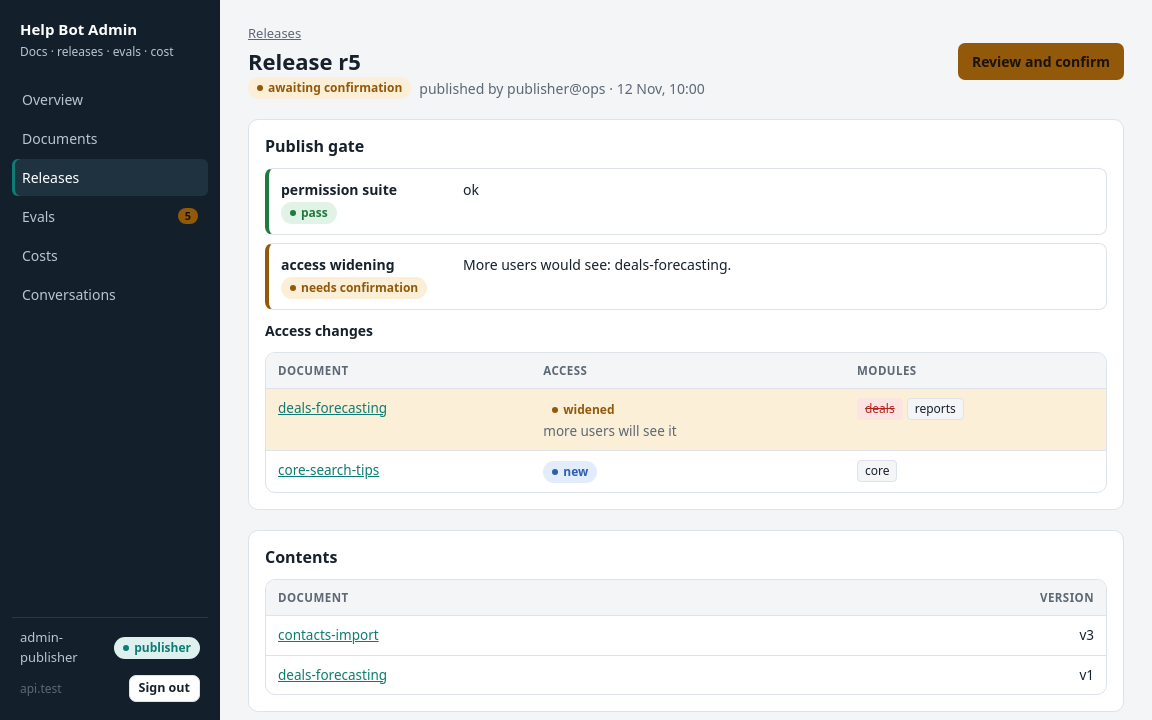
Test case: widening confirmation › a publisher reviews the widened docs and confirms; the release goes live
Click the button "Review and confirm". click: (1041, 62)
box: [958, 43, 1124, 80]
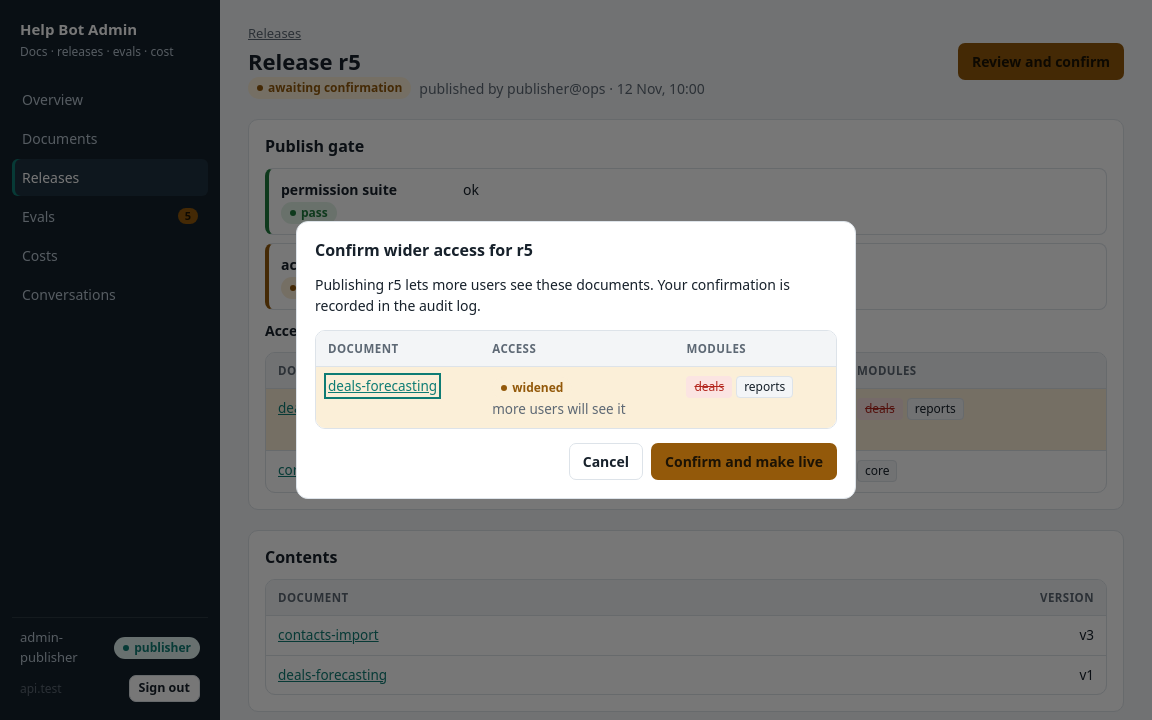
Now the link "deals-forecasting" is shown, box [328, 377, 437, 395]
Click the button "Confirm and make live". click: (744, 462)
box: [651, 443, 837, 480]
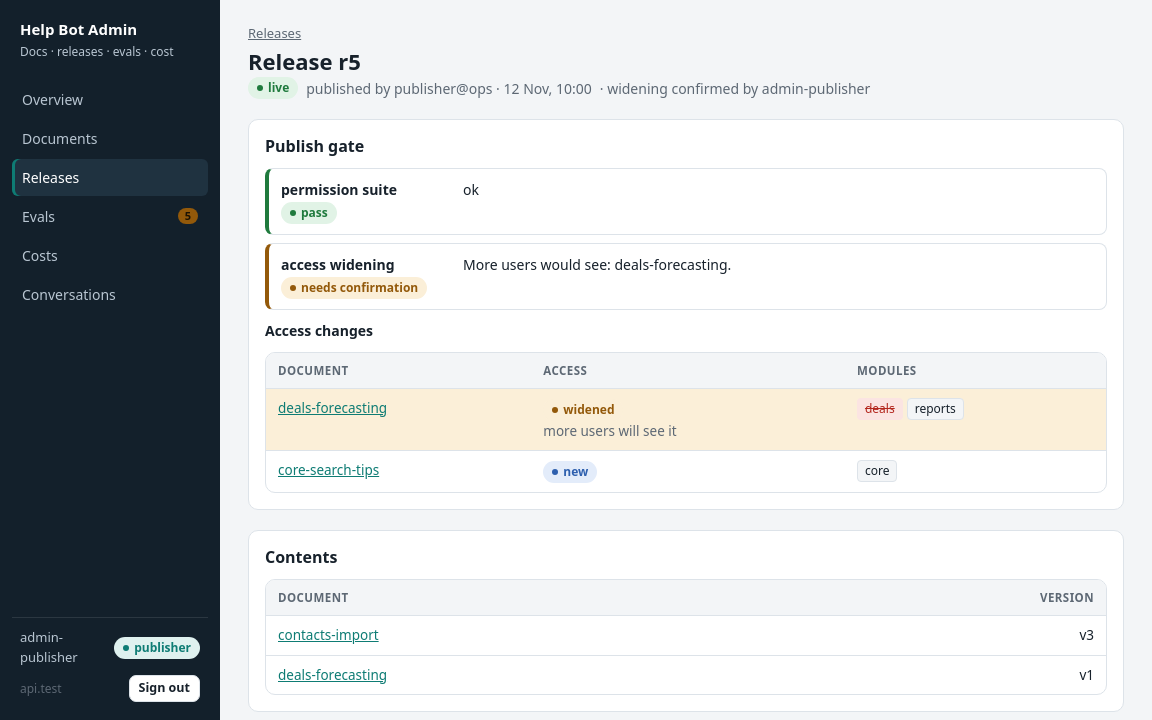
Now the text "· widening confirmed by admin-publisher" is shown, box [600, 78, 870, 98]
Now the button "Review and confirm" is gone
